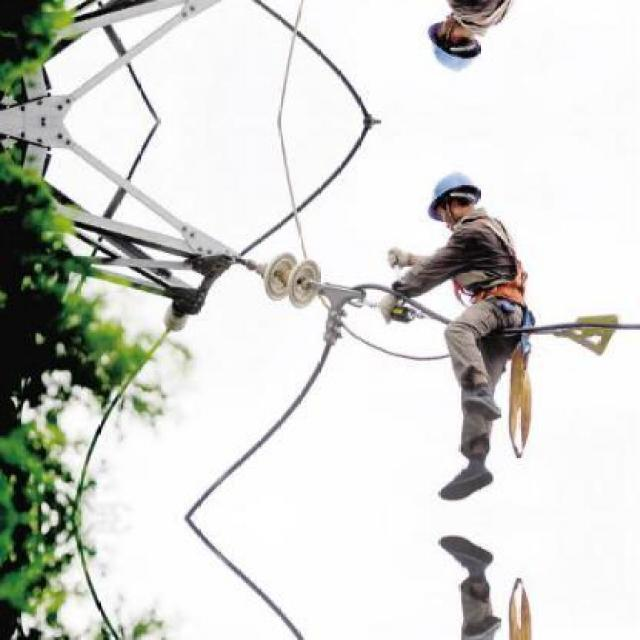hat: (423, 167, 483, 218)
